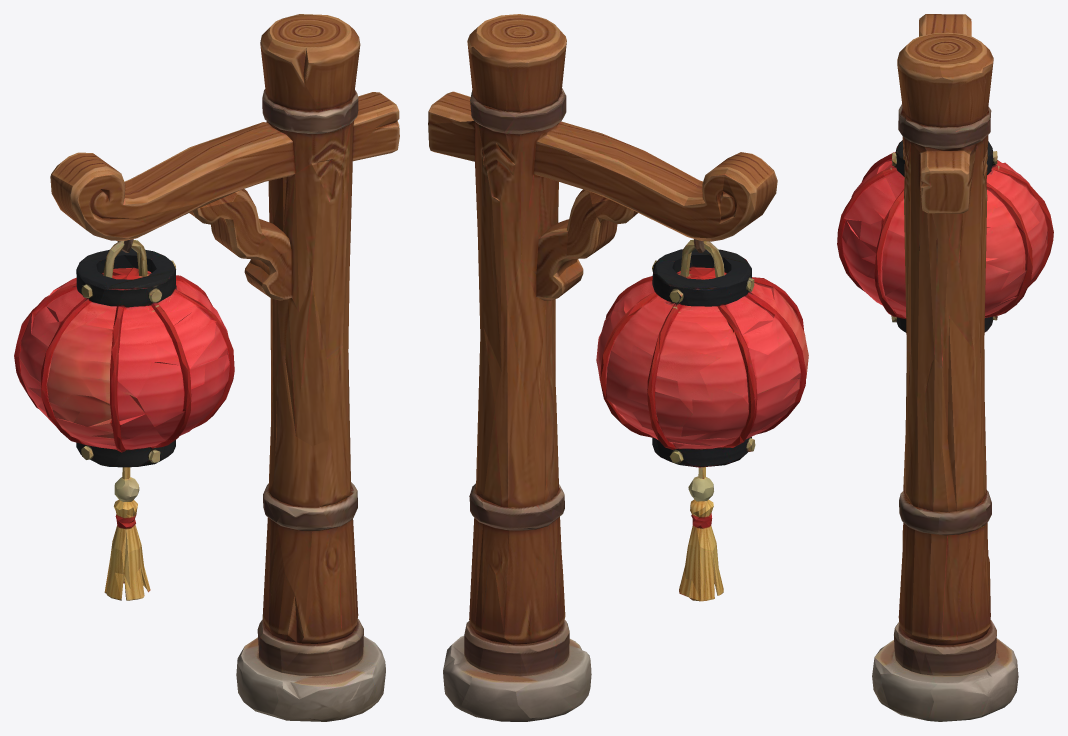
The model's file is lantern_post.fbx.
3 renders of one model, left to right at view 1: azimuth 30°, elevation 25°; view 2: azimuth 150°, elevation 25°; view 3: azimuth 270°, elevation 25°, orthographic. The views are drawn at different scales.
Parts seen in each view (by area): view 1: lantern_post; view 2: lantern_post; view 3: lantern_post.
Boxes of the visible parts, x1,y1,x2,y2 form: lantern_post: (14,14,399,721); lantern_post: (428,14,808,721); lantern_post: (837,14,1053,721).
Size of the model in its own units: 1.92 by 3.4 by 1.04.
